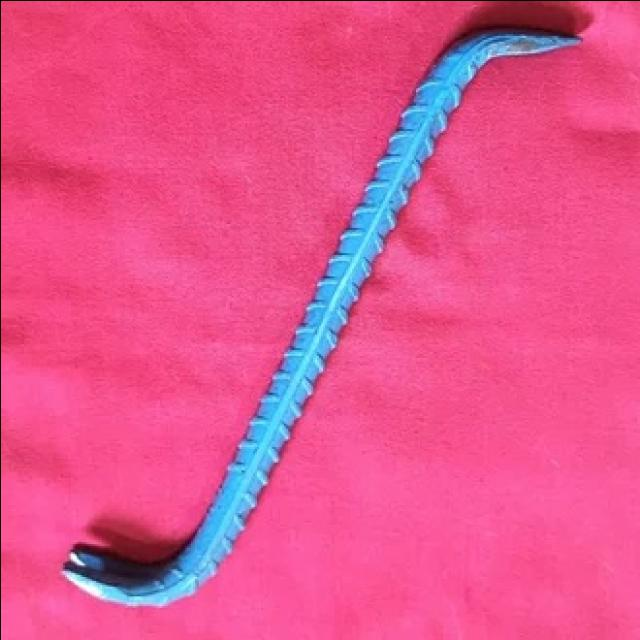Linggis: (61, 19, 585, 609)
